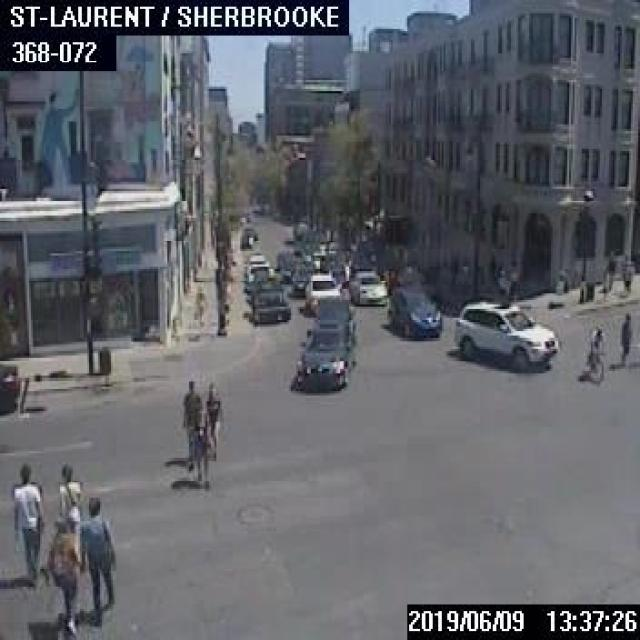cyclist: (579, 326, 606, 380)
pedestrian: (80, 495, 113, 621), (11, 462, 44, 587), (49, 516, 81, 638), (181, 378, 202, 467), (55, 461, 81, 522), (203, 380, 222, 459), (190, 408, 208, 485), (615, 311, 631, 367), (193, 280, 205, 324), (620, 251, 632, 293), (605, 248, 616, 291)
vehicle: (453, 299, 558, 368), (297, 326, 348, 387), (386, 284, 440, 337), (250, 281, 289, 322), (303, 272, 341, 312), (313, 299, 353, 336), (347, 269, 386, 304), (321, 248, 349, 285), (0, 358, 18, 411), (290, 258, 314, 293), (247, 270, 277, 290), (245, 262, 272, 282), (246, 253, 266, 263)
